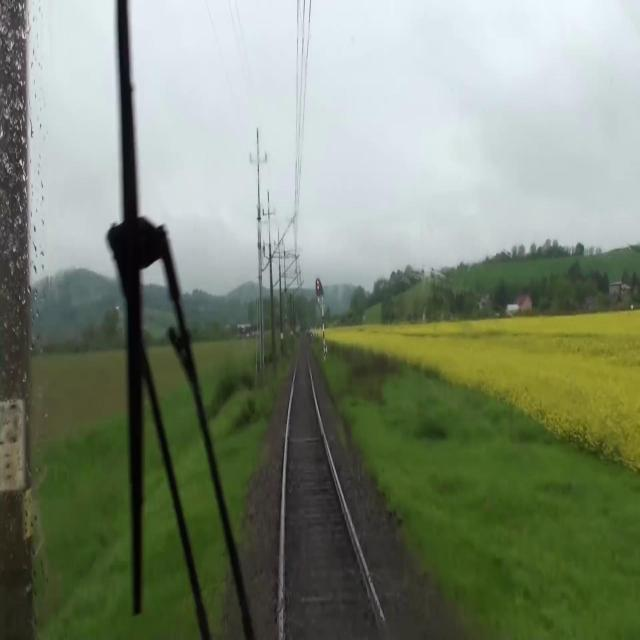rail-track: (284, 336, 387, 639)
